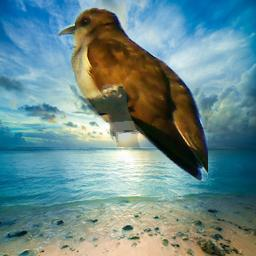Cuckoo: (58, 7, 208, 184)
